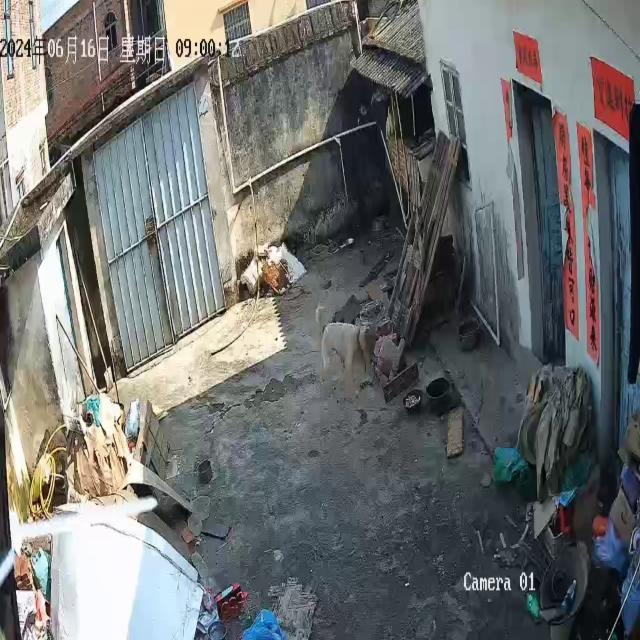dog: (316, 303, 377, 400)
